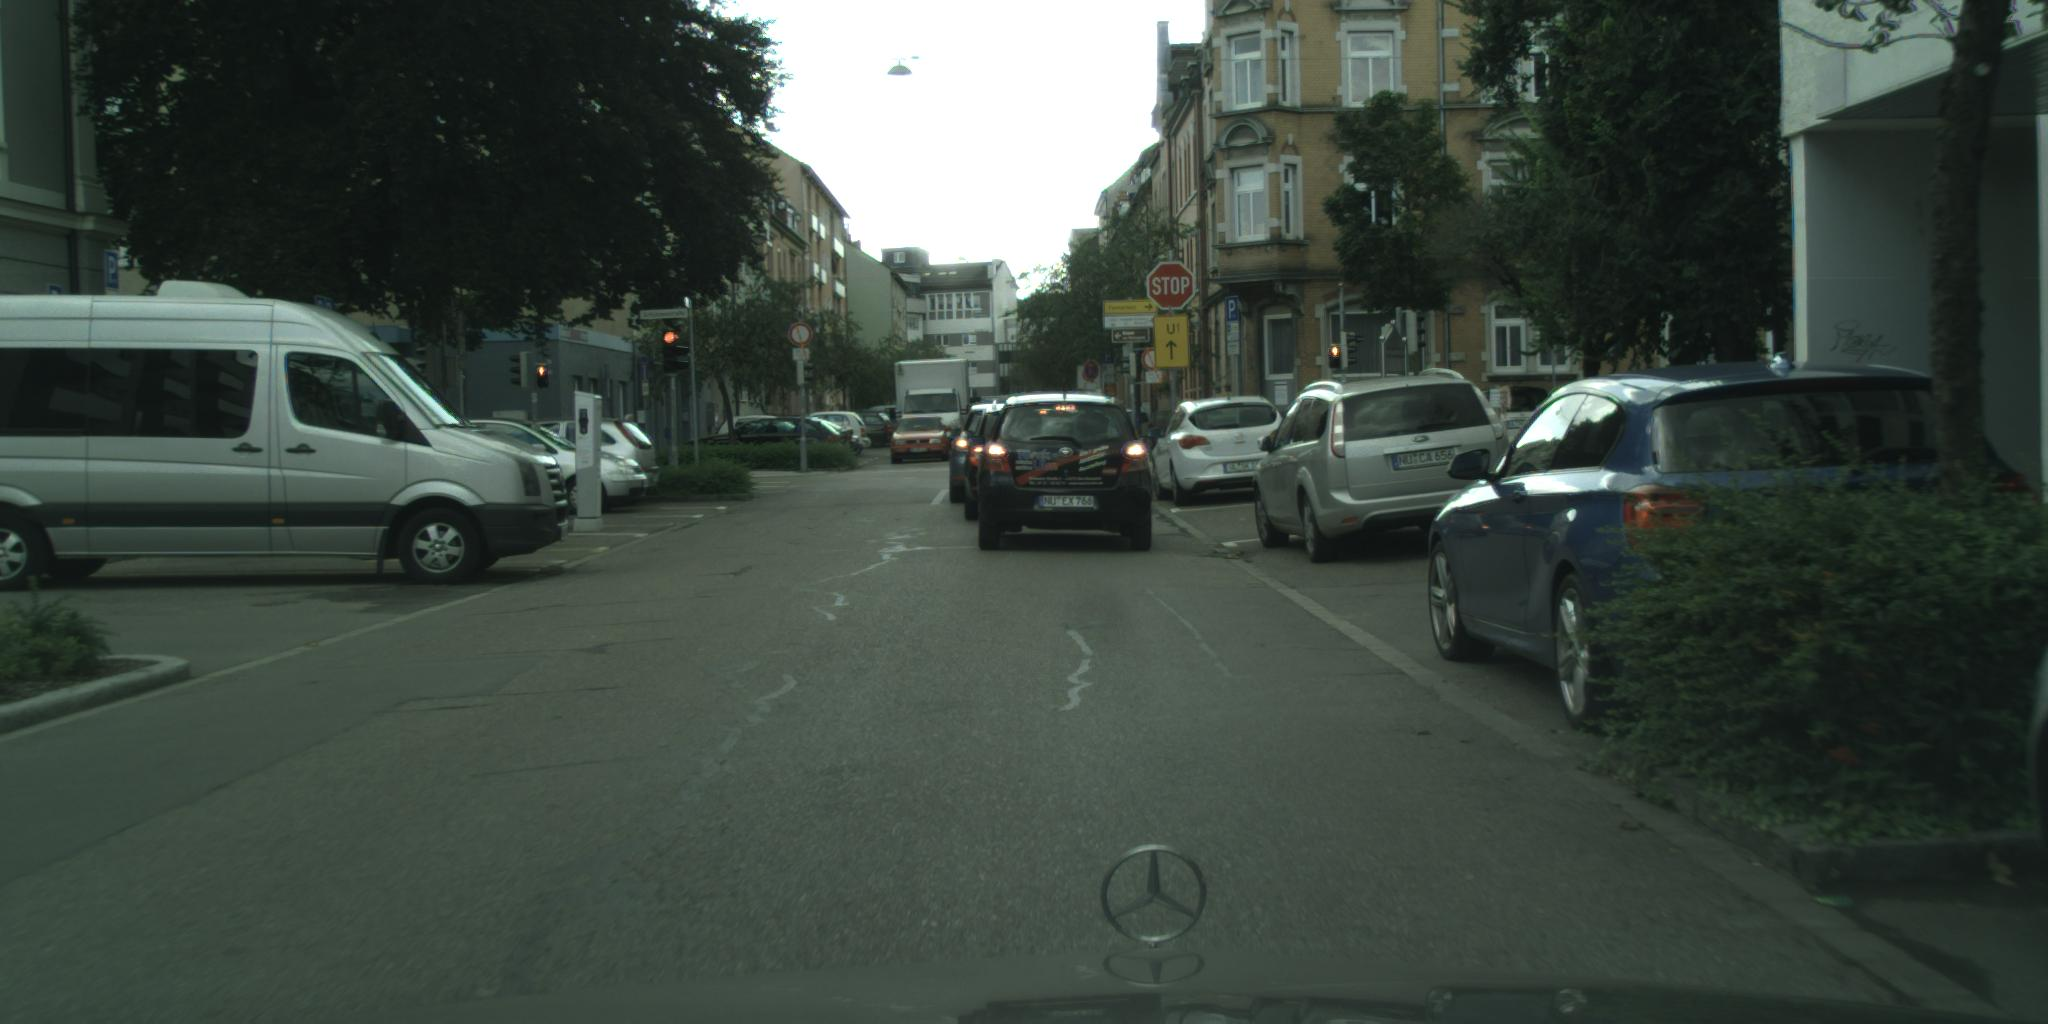car: (1428, 362, 2044, 737), (1, 282, 569, 593), (1253, 370, 1516, 566), (965, 392, 1157, 552), (462, 419, 649, 515), (1147, 398, 1287, 507), (526, 419, 660, 492), (946, 400, 1023, 509), (960, 401, 1016, 522), (1473, 387, 1556, 466), (688, 419, 854, 455), (807, 413, 872, 458), (891, 418, 952, 466), (1123, 410, 1159, 457), (714, 417, 781, 441), (854, 413, 897, 449), (865, 408, 909, 440)
truck: (891, 359, 974, 439)
